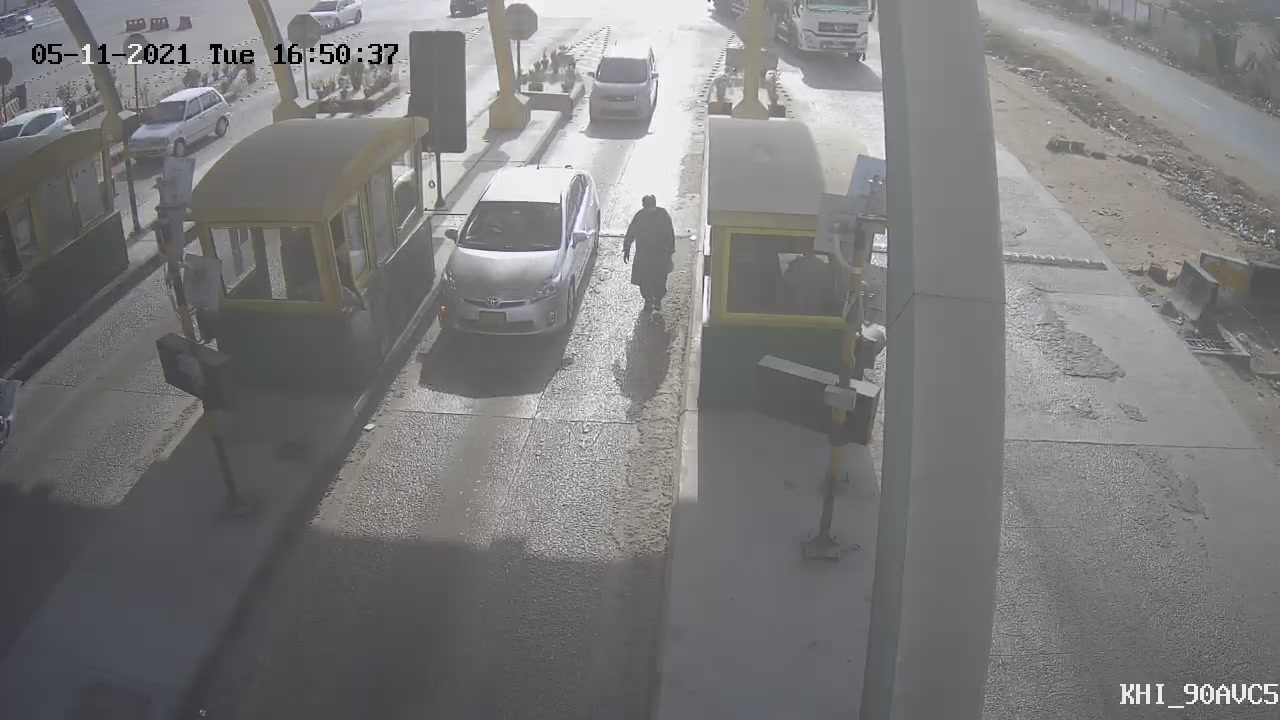F1: (411, 146, 617, 360), (569, 26, 673, 143)
